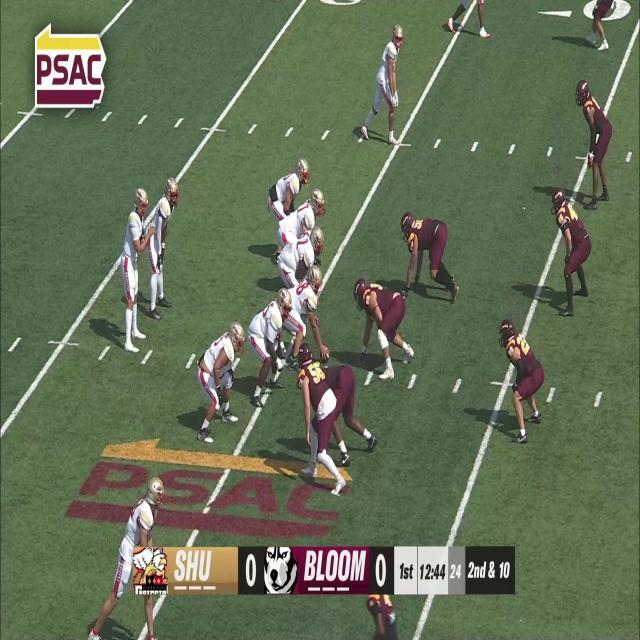football: (316, 348, 332, 361)
